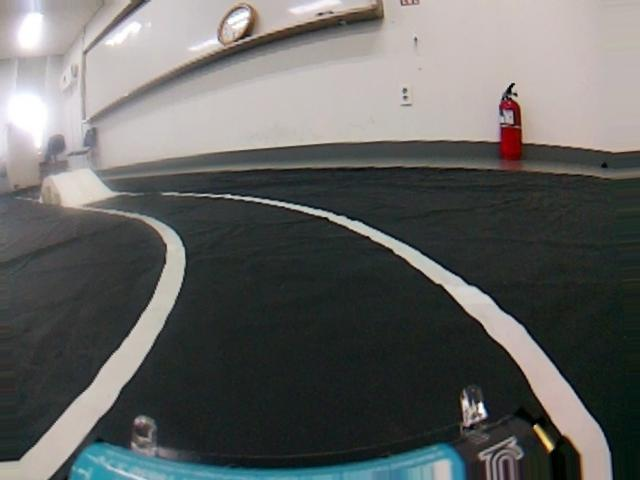hill_up: (40, 166, 121, 209)
left: (0, 200, 640, 480)
